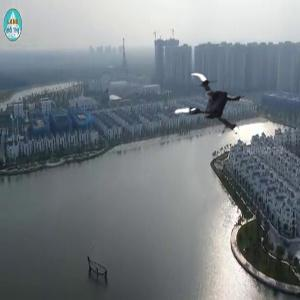drone: (173, 66, 257, 150)
